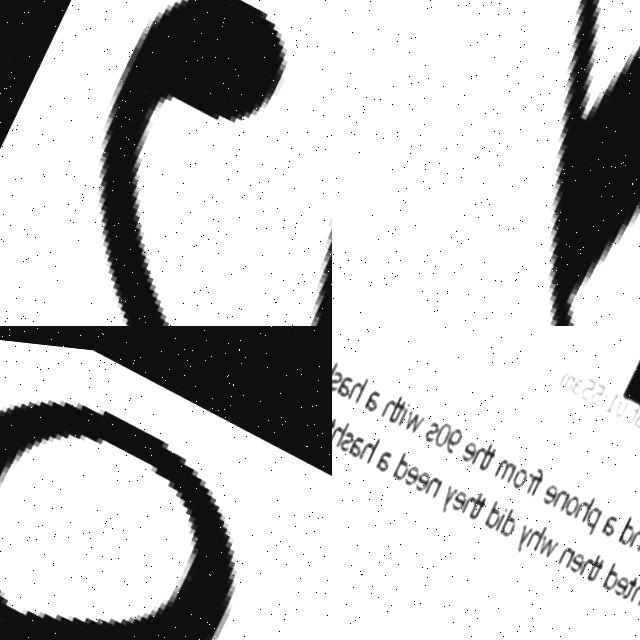1: (578, 363, 599, 392), (589, 369, 609, 396)
5: (446, 416, 467, 447)
8: (0, 326, 317, 640)
V: (0, 0, 332, 326)
Y: (332, 0, 640, 326)
